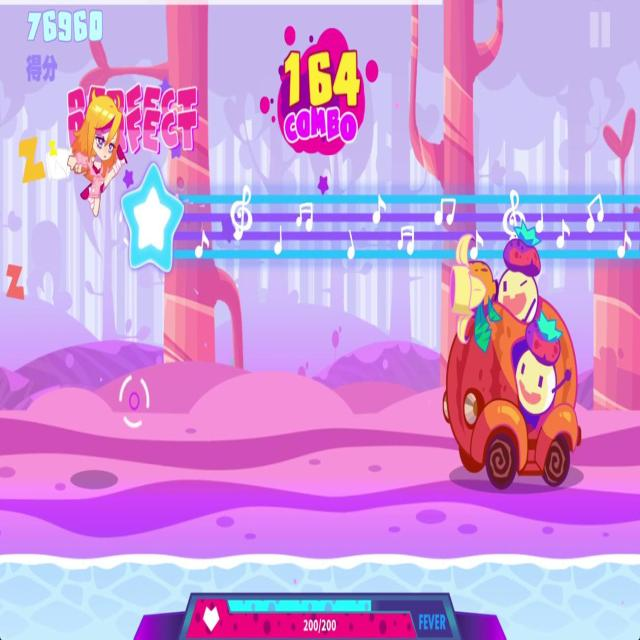cheboss: (444, 217, 586, 487)
hold: (123, 161, 640, 272)
